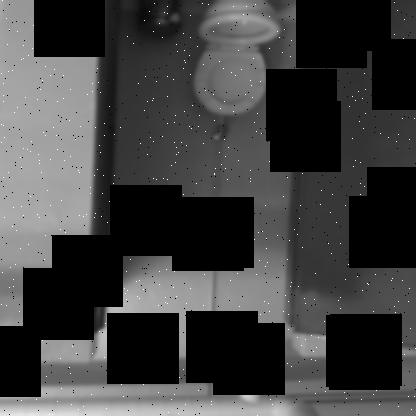Porte: (83, 1, 415, 352)
